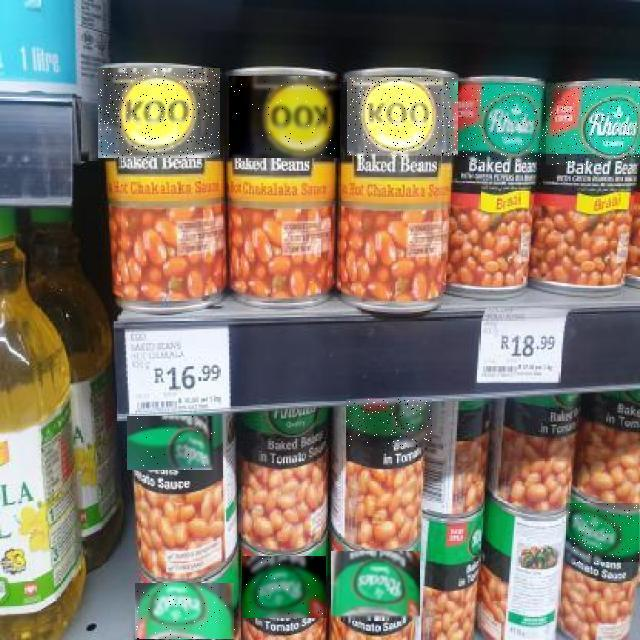Beans: (98, 68, 220, 158), (229, 76, 340, 158), (347, 78, 458, 158), (546, 83, 640, 165), (462, 86, 546, 162), (331, 552, 420, 620), (136, 583, 236, 639), (242, 556, 326, 618), (128, 416, 216, 470), (566, 503, 639, 562), (346, 399, 432, 447)
